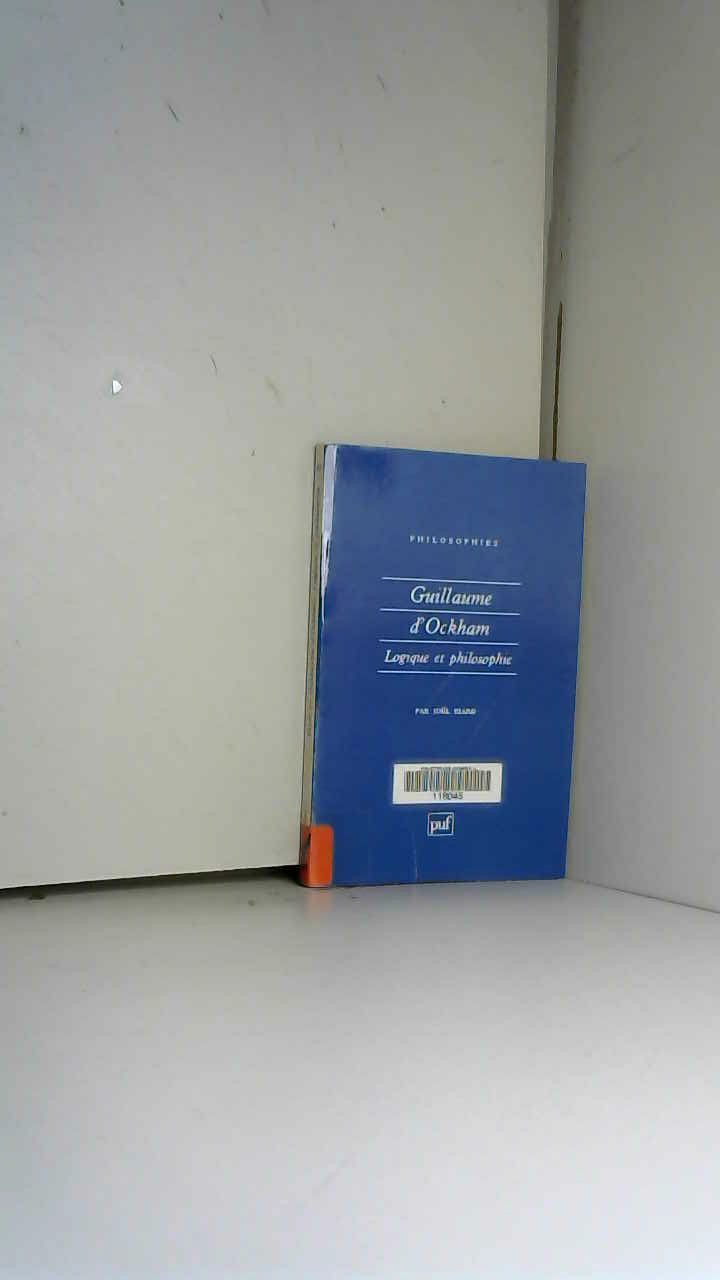book: (280, 422, 609, 911)
